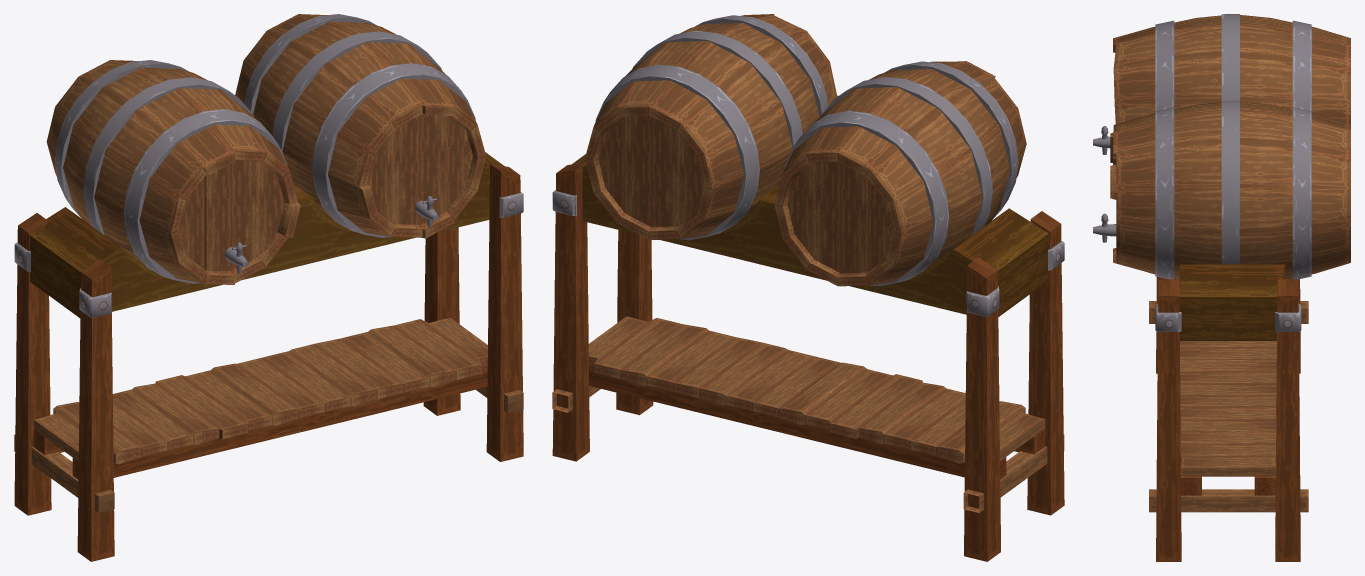
Rendered from Barrel_Holder.gltf.
3 views of the same model, side by side, from view 1: azimuth 30°, elevation 25°; view 2: azimuth 150°, elevation 25°; view 3: azimuth 270°, elevation 25° (orthographic). The views are drawn at different scales.
Visible parts, largest first — view 1: Barrel_Holder; view 2: Barrel_Holder; view 3: Barrel_Holder.
Part boxes in pixels (x1=…): Barrel_Holder: x1=14, y1=14, x2=523, y2=561; Barrel_Holder: x1=552, y1=14, x2=1064, y2=561; Barrel_Holder: x1=1093, y1=14, x2=1350, y2=561.
Bounding box in the file's own units: 1.36 × 1.26 × 0.741.
2 materials, 2 textured.
